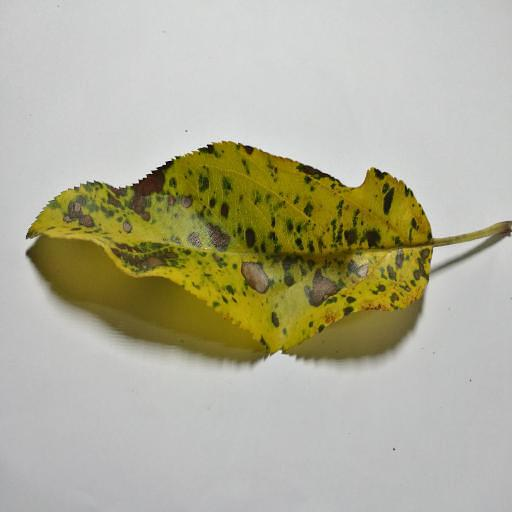Brown_Spot: (235, 260, 266, 300), (61, 203, 101, 231), (117, 192, 152, 224), (122, 254, 177, 272), (138, 175, 167, 201), (310, 283, 330, 308), (207, 225, 224, 248), (170, 197, 194, 207), (120, 221, 131, 232)
